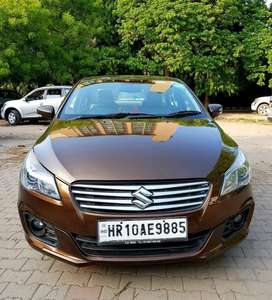HR10AE9885: (98, 217, 186, 241)
